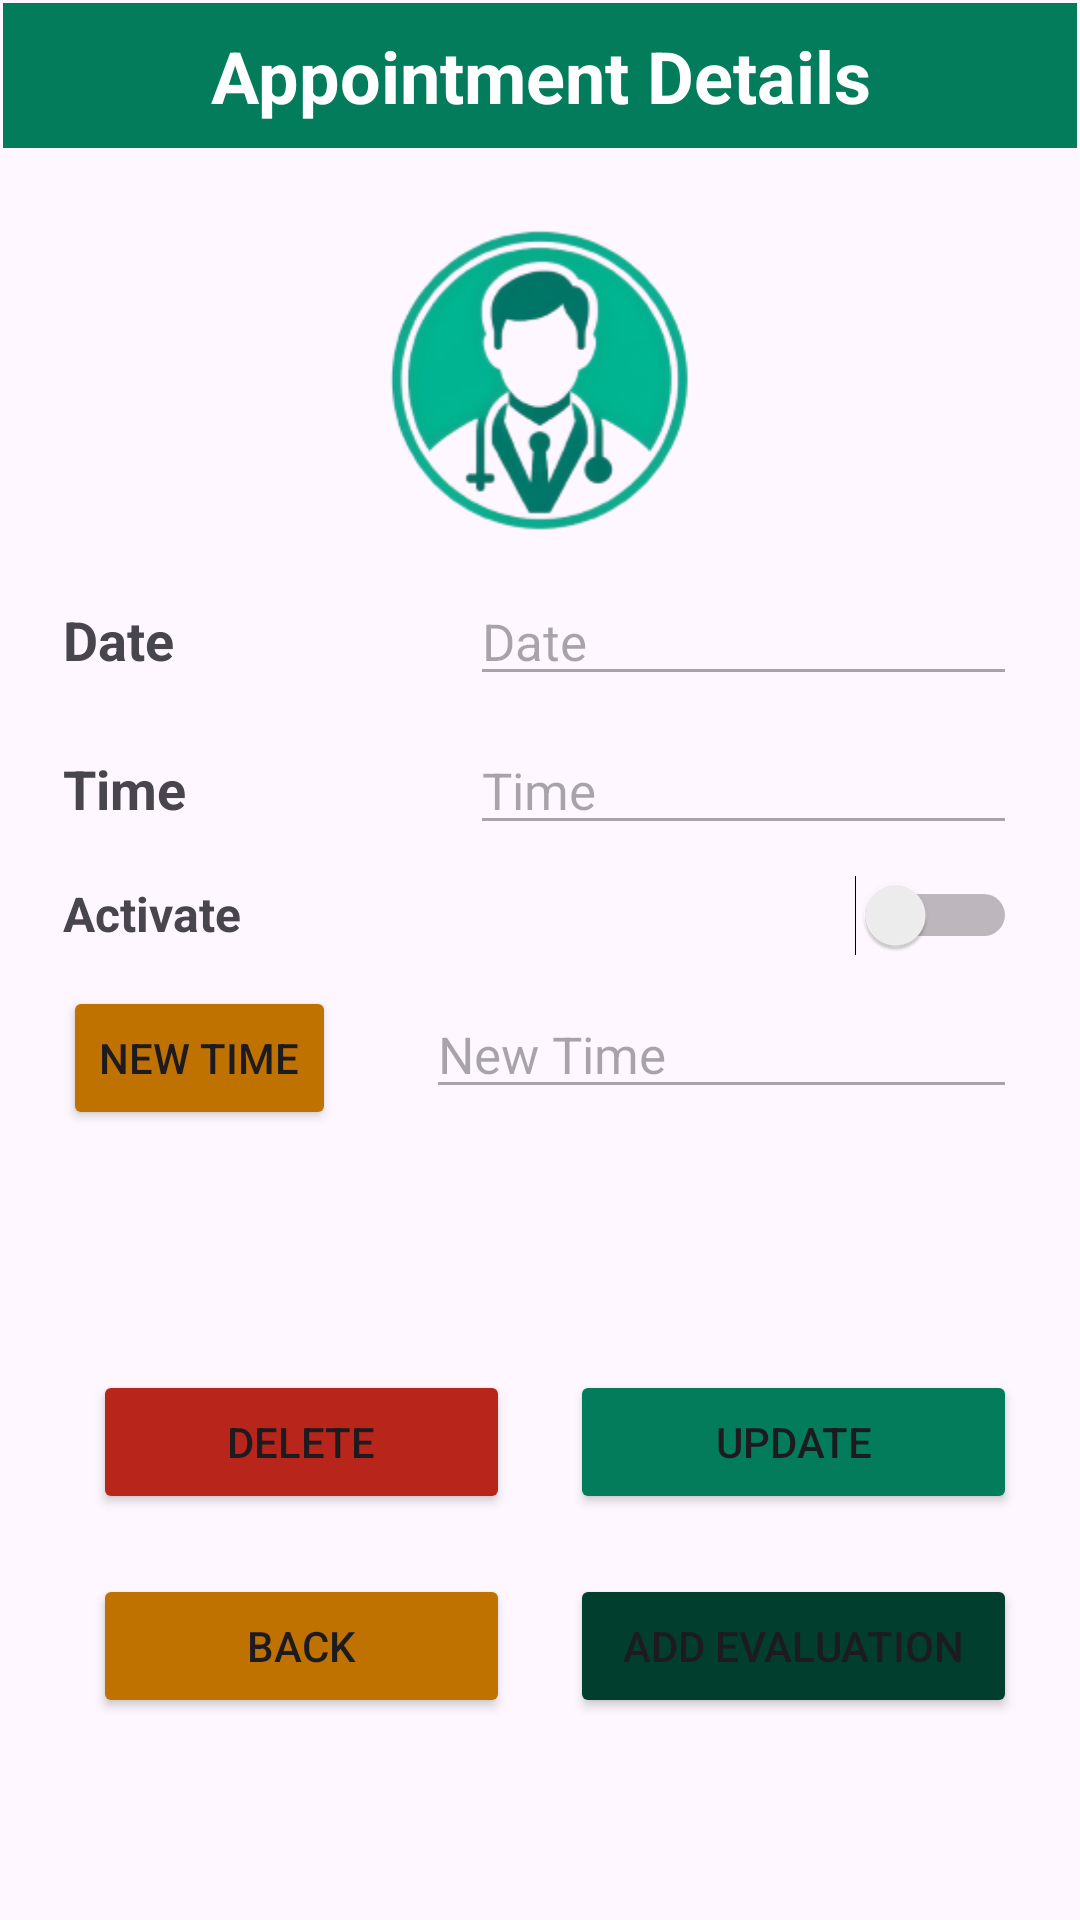

Locate icon controls on the screen. Image size 1080*1920, boxes as [x1=x1, y1=y1, x2=x2, y2=y2].
prof: [x1=391, y1=231, x2=688, y2=530]
